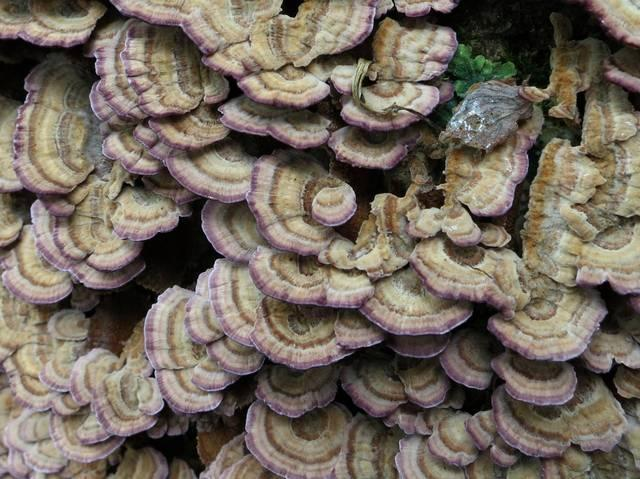Non-edible Mushroom: (0, 0, 639, 478), (244, 147, 358, 256)
